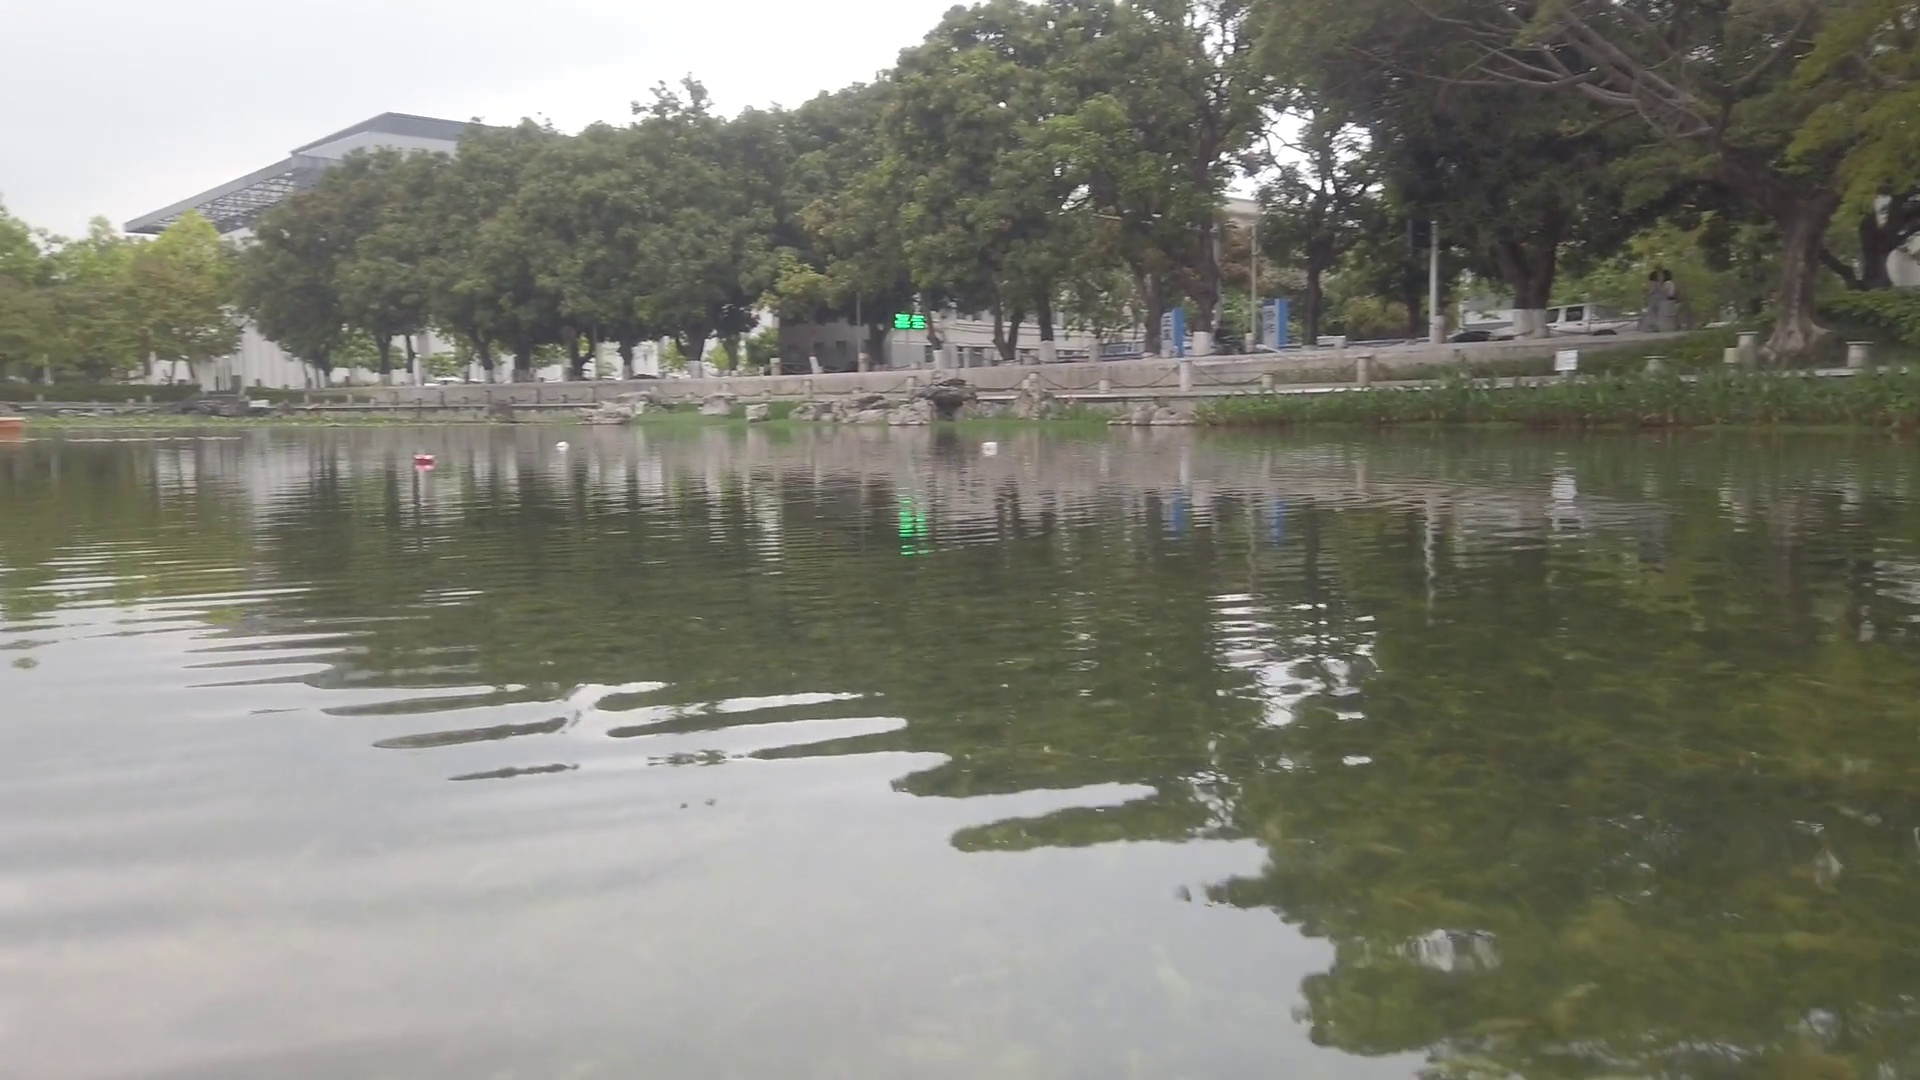bottle: (413, 452, 436, 467)
carton: (982, 440, 997, 450), (556, 439, 570, 448)
